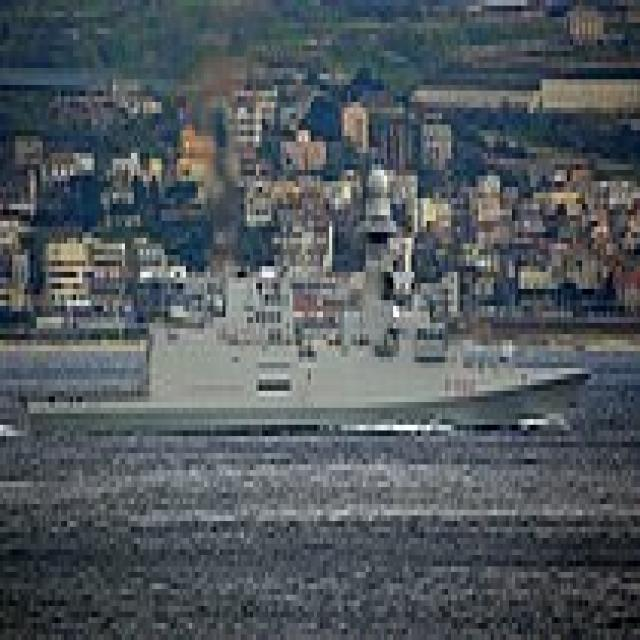Warship: (15, 249, 591, 442)
